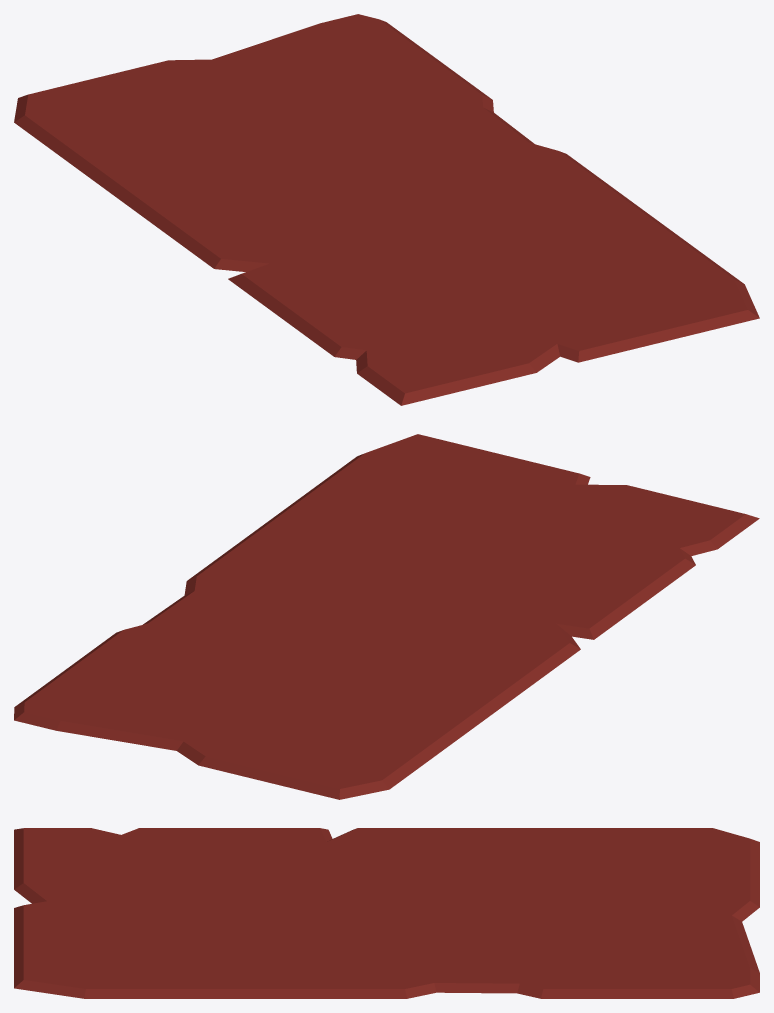
Rendered from Rug.glb.
3 views of the same model, one above another, from view 1: azimuth 30°, elevation 25°; view 2: azimuth 150°, elevation 25°; view 3: azimuth 270°, elevation 25° (orthographic). The views are drawn at different scales.
Parts seen in each view (by area): view 1: Rug; view 2: Rug; view 3: Rug.
Part boxes in pixels (x1,y1,x2,y2): Rug: [14, 14, 759, 405]; Rug: [14, 434, 759, 799]; Rug: [14, 828, 759, 998].
Size of the model in its own units: 1.43 by 0.0222 by 2.66.
